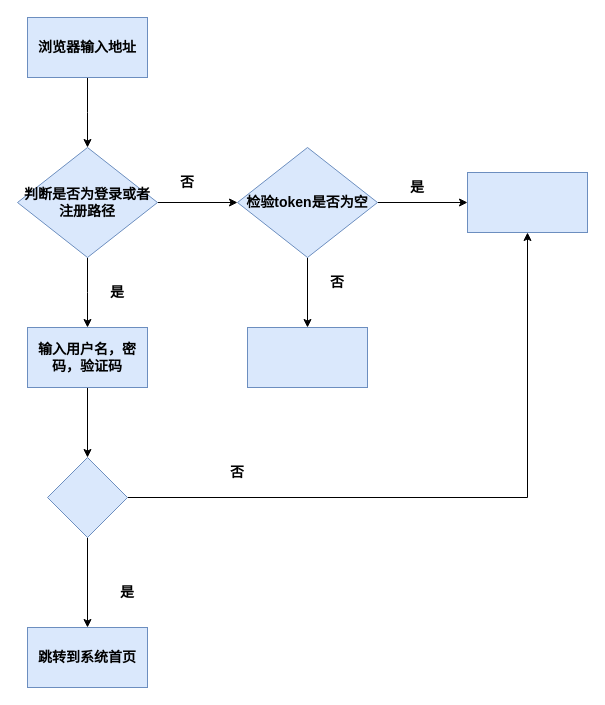
Image size: 605x705. Some labels were removed from this diagram. Each missing label, with the box of its shape:
检验信息是否匹配: (46, 456, 128, 538)
跳转到登录界面: (466, 172, 588, 232)
跳转到相应界面: (246, 326, 368, 388)
